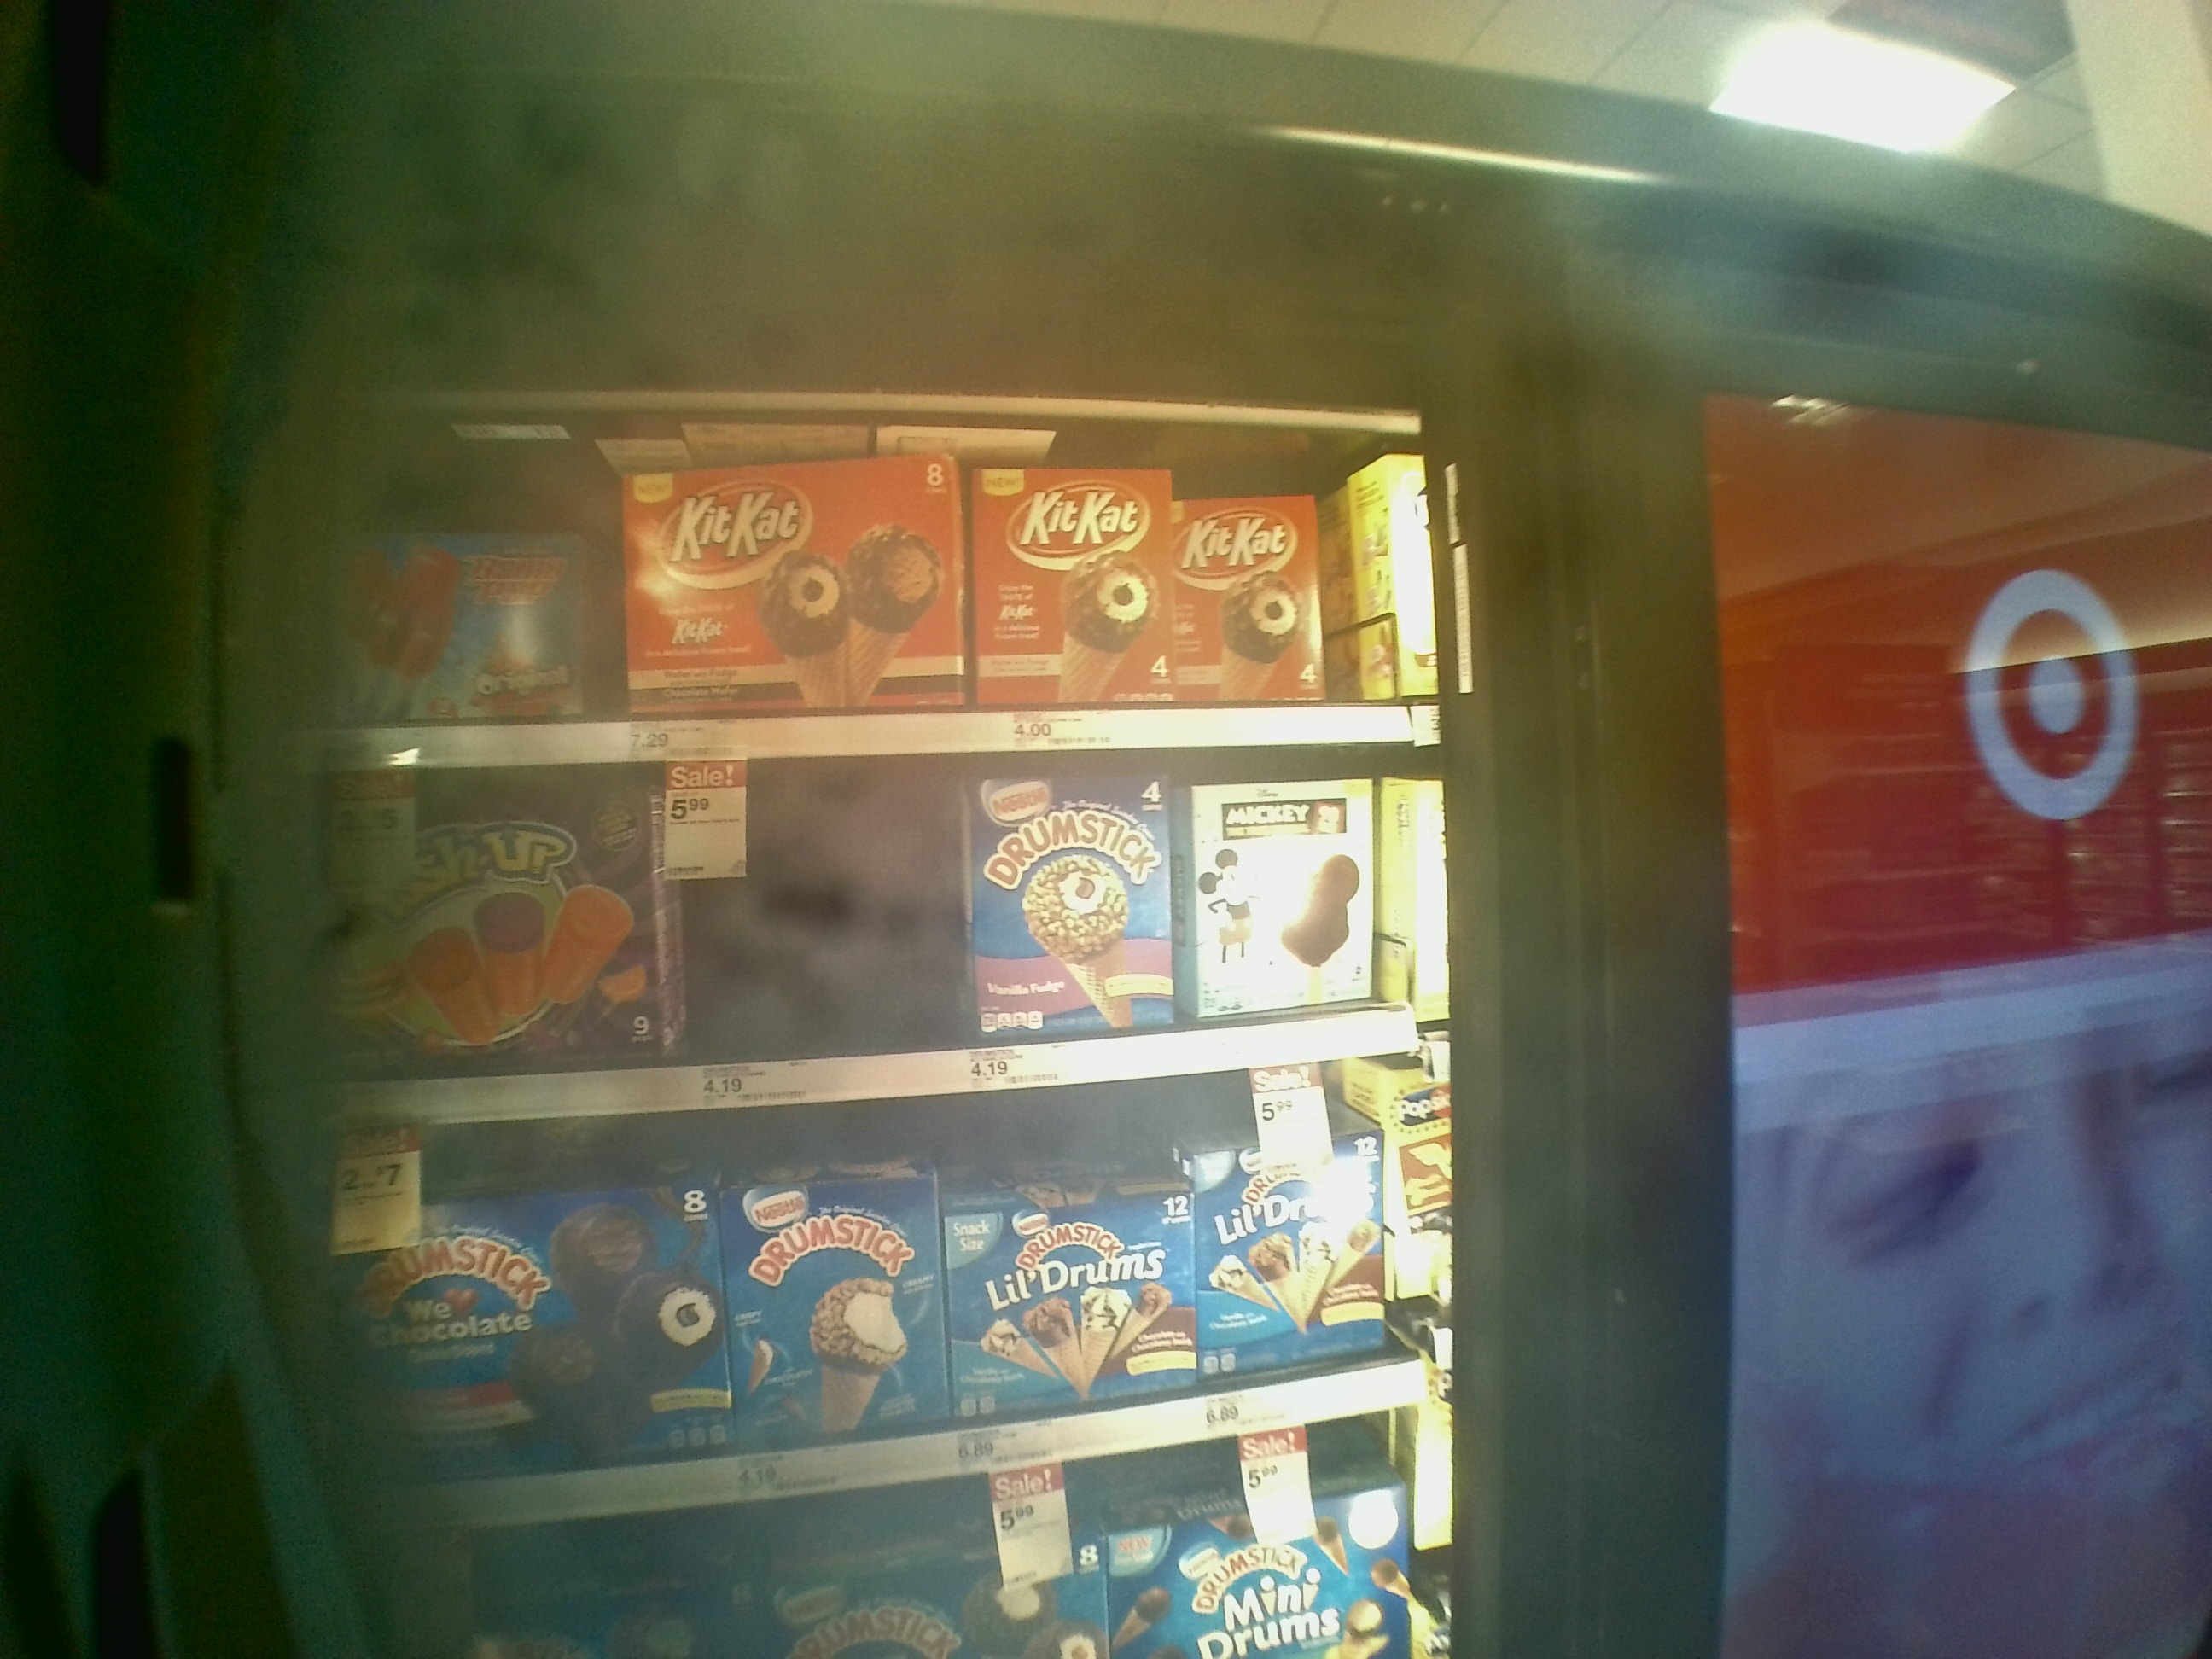shelf: (256, 1047, 1456, 1527), (258, 375, 1453, 758), (256, 744, 1458, 1105)
